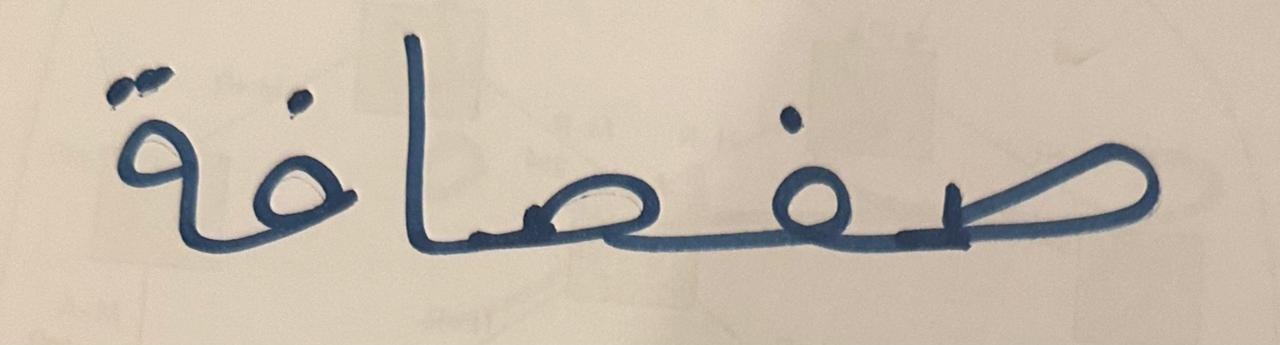alef: (381, 4, 458, 310)
feh: (667, 19, 873, 305), (212, 42, 375, 303)
seen: (876, 59, 1205, 306), (460, 64, 663, 323)
thal: (81, 4, 208, 302)
